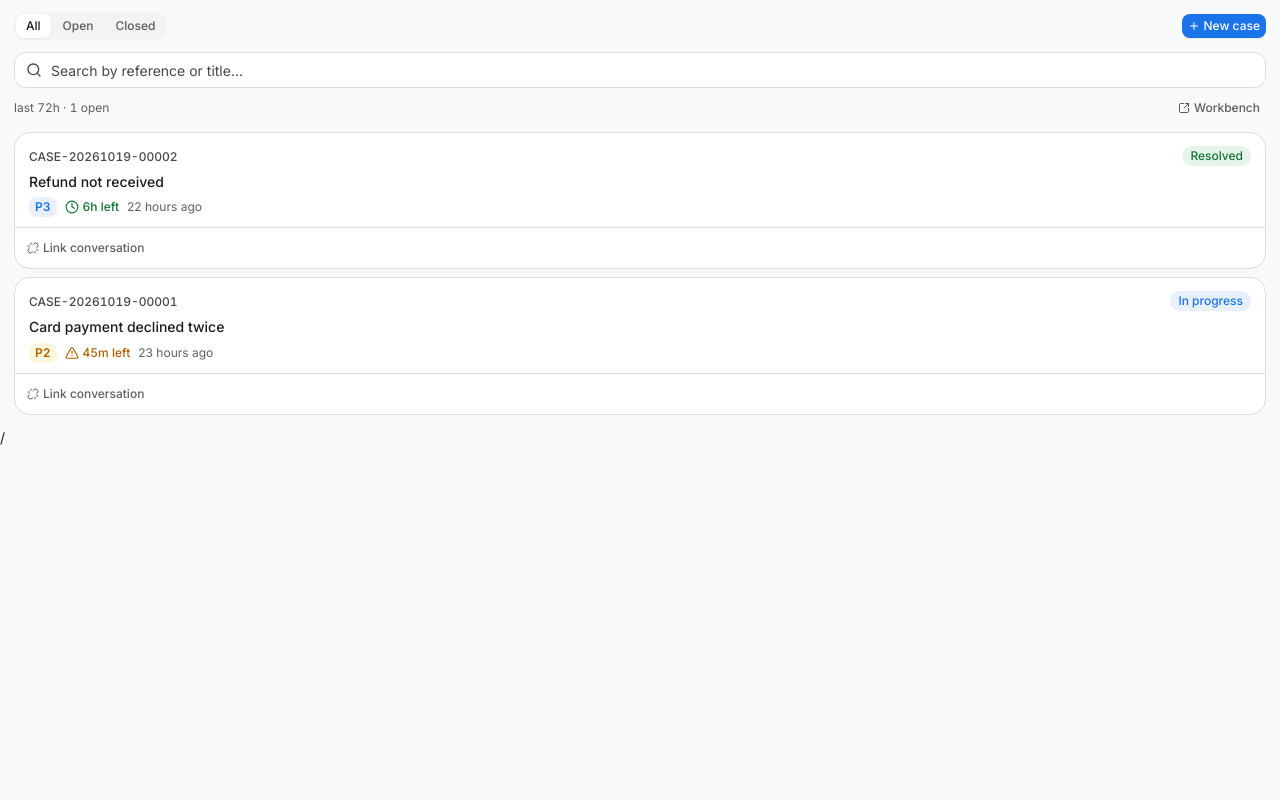
Test: conversation Cases tab › links the active conversation to an existing case after confirmation
The width and height of the screenshot is (1280, 800).
Click the 2nd button "Link conversation" at (86, 394), box [21, 382, 150, 406]
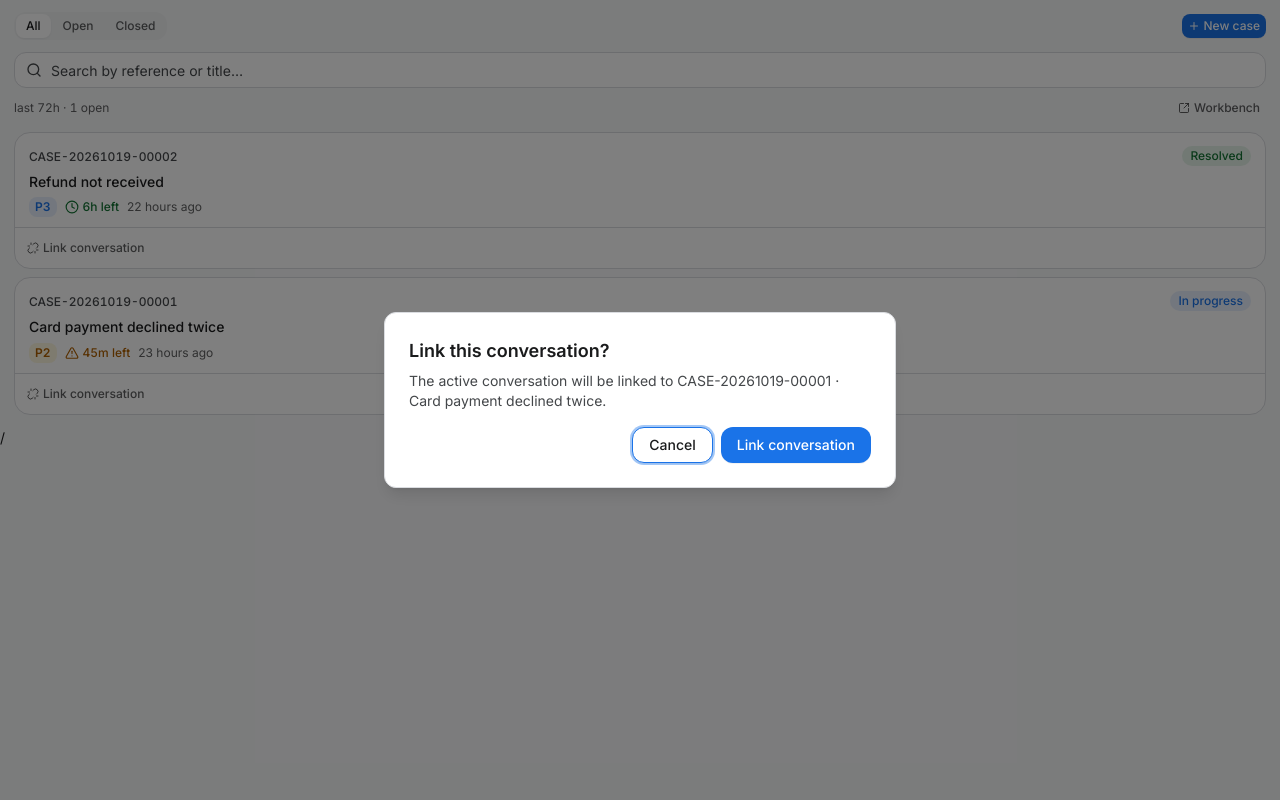
Click the button "Link conversation" at (796, 445), box [721, 427, 871, 463]
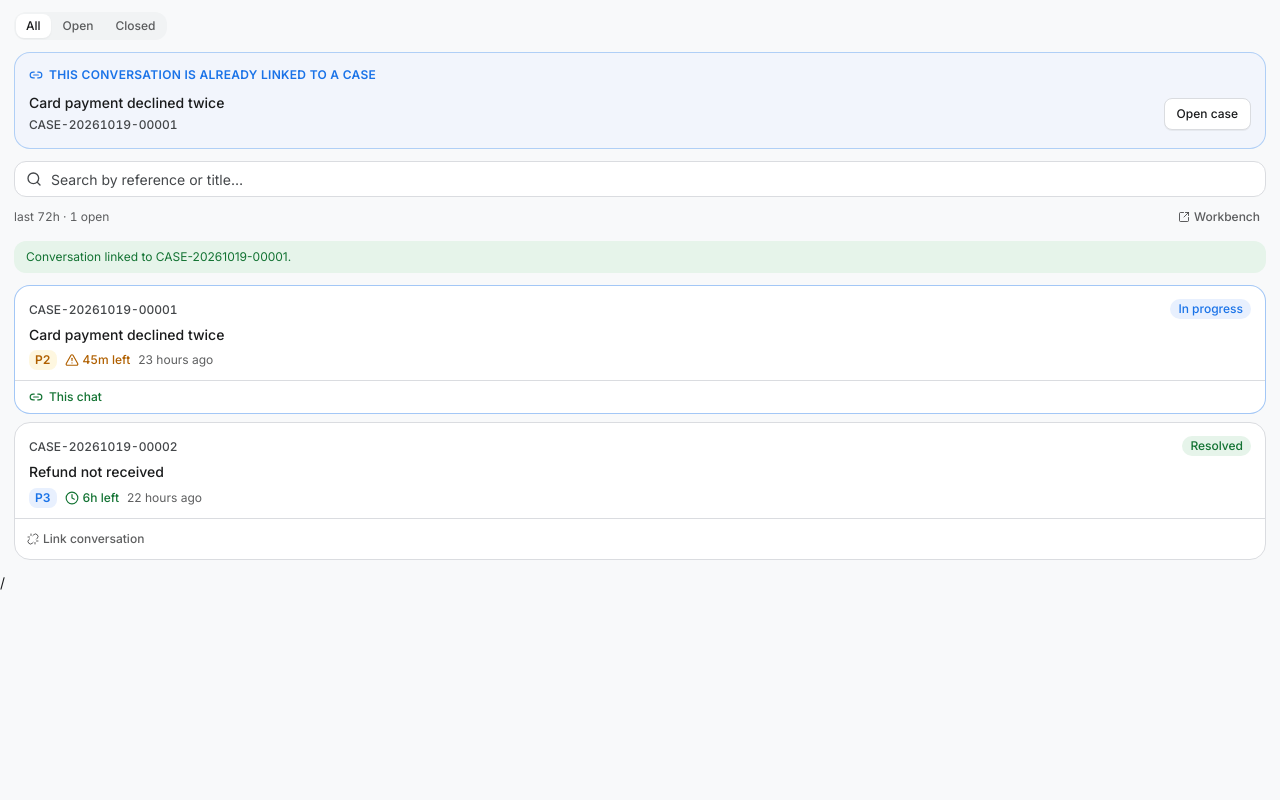
expect the text "Conversation linked to CASE-20261019-00001." is shown: met, box [14, 241, 1266, 273]
expect the element with test id "linked-conversation-banner" is shown: met, box [14, 52, 1266, 149]
expect the button "New case" is gone: met
